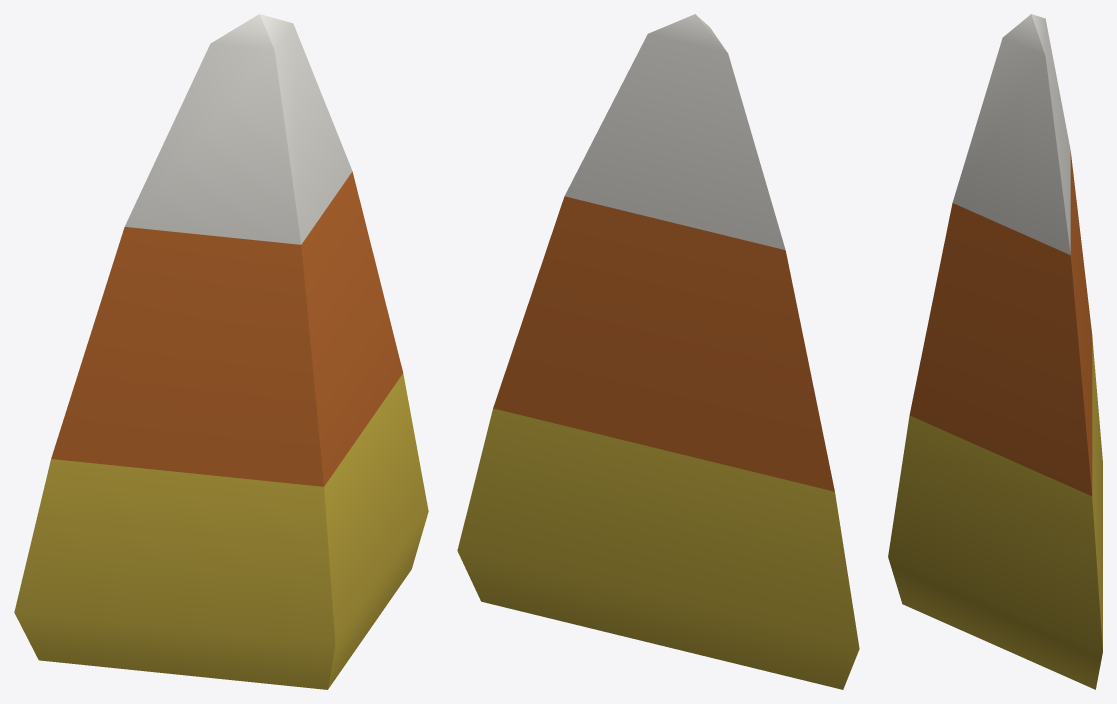
File: treat_candy_corn.glb
3 views of the same model, side by side, from view 1: azimuth 30°, elevation 25°; view 2: azimuth 150°, elevation 25°; view 3: azimuth 270°, elevation 25° (orthographic). The views are drawn at different scales.
Visible parts, largest first — view 1: treat_candy_corn; view 2: treat_candy_corn; view 3: treat_candy_corn.
Part boxes in pixels (x1,y1,x2,y2): treat_candy_corn: [14, 14, 428, 689]; treat_candy_corn: [457, 14, 859, 689]; treat_candy_corn: [888, 14, 1102, 689].
Bounding box in the file's own units: 0.0346 × 0.05 × 0.0165.
